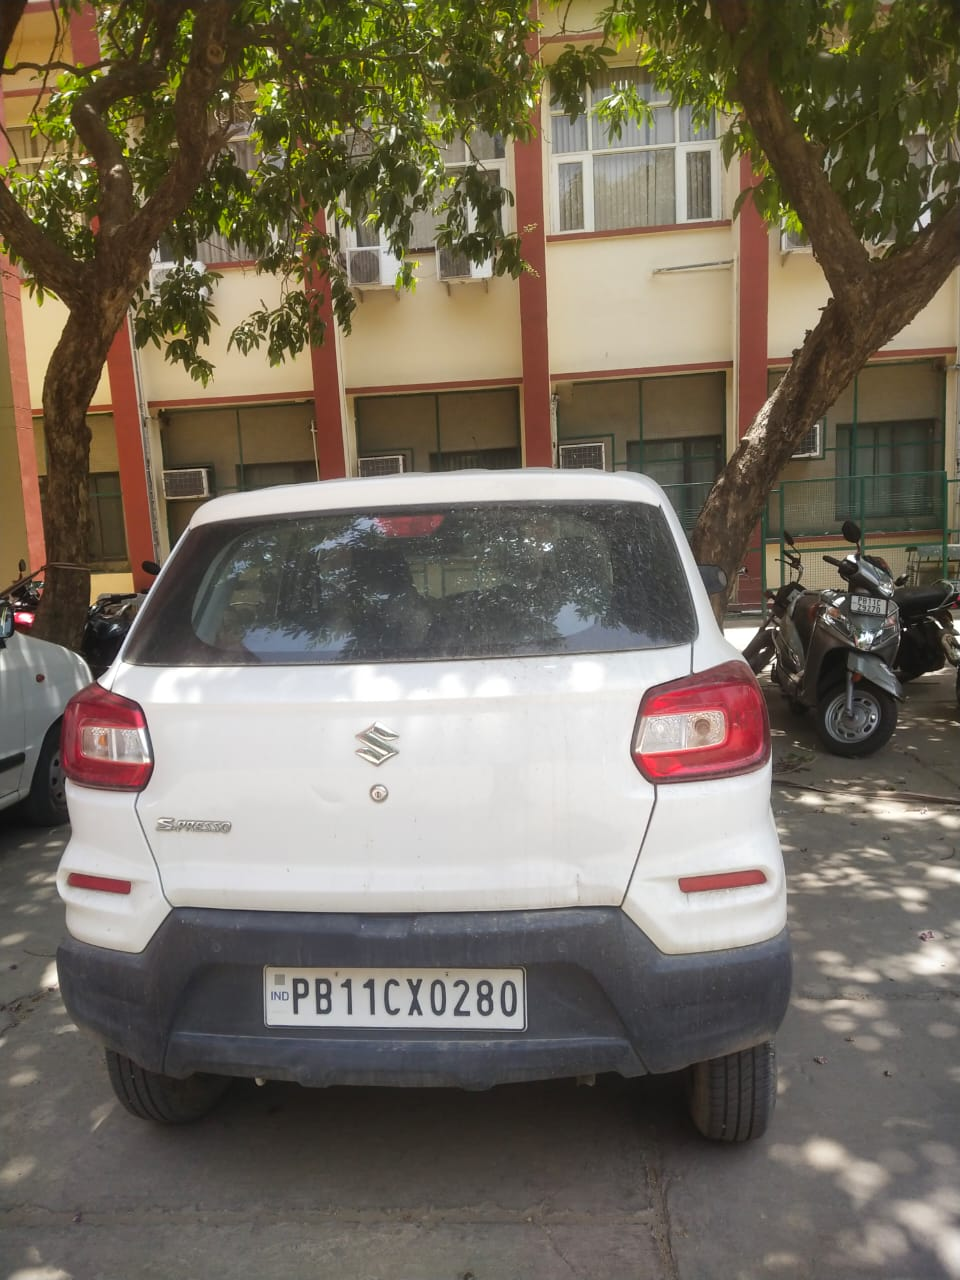license plate: (264, 967, 525, 1030)
